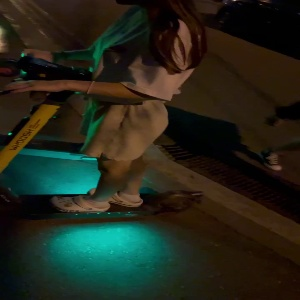human on a scooter: (1, 1, 208, 224)
